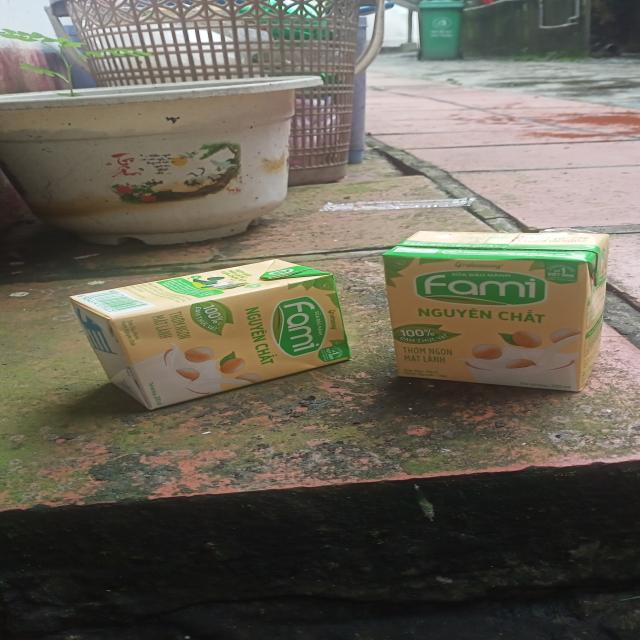Fami: (69, 260, 350, 411), (384, 232, 612, 386)
